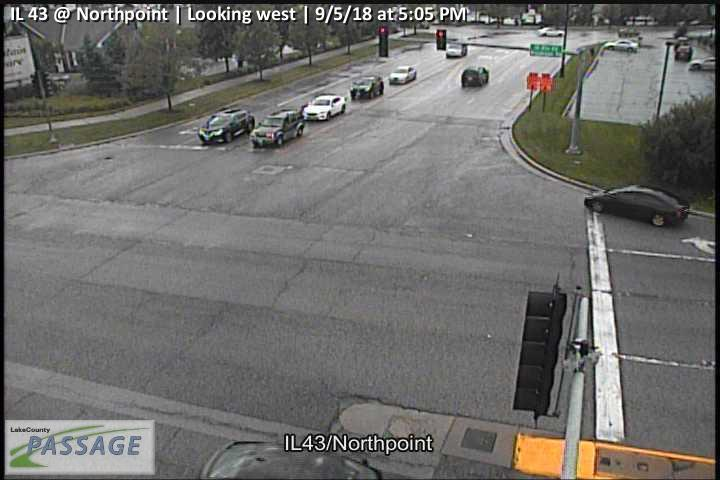SUV: (249, 109, 305, 148), (199, 109, 255, 145), (351, 76, 384, 100), (675, 45, 693, 62)
Sedan: (584, 184, 689, 227), (302, 94, 346, 121), (389, 66, 417, 84), (602, 39, 639, 52), (689, 57, 715, 72), (446, 43, 467, 57), (537, 27, 565, 36)
